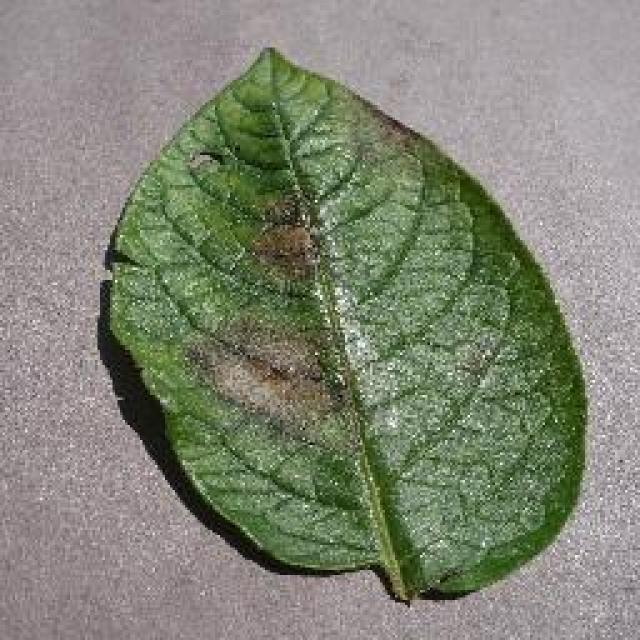late_blight: (100, 43, 592, 605)
